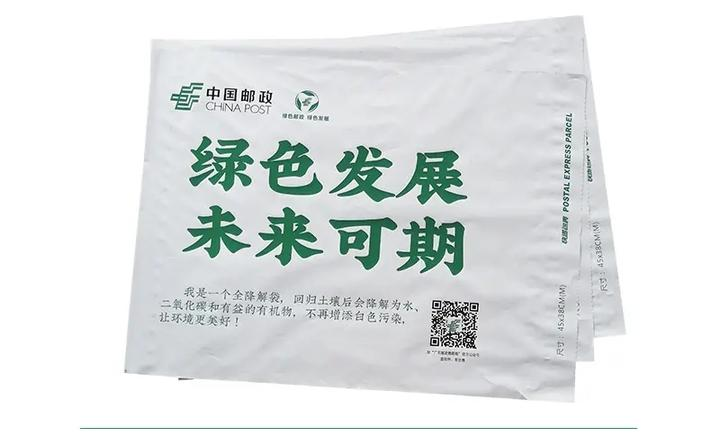塑料袋: (124, 0, 640, 403)
